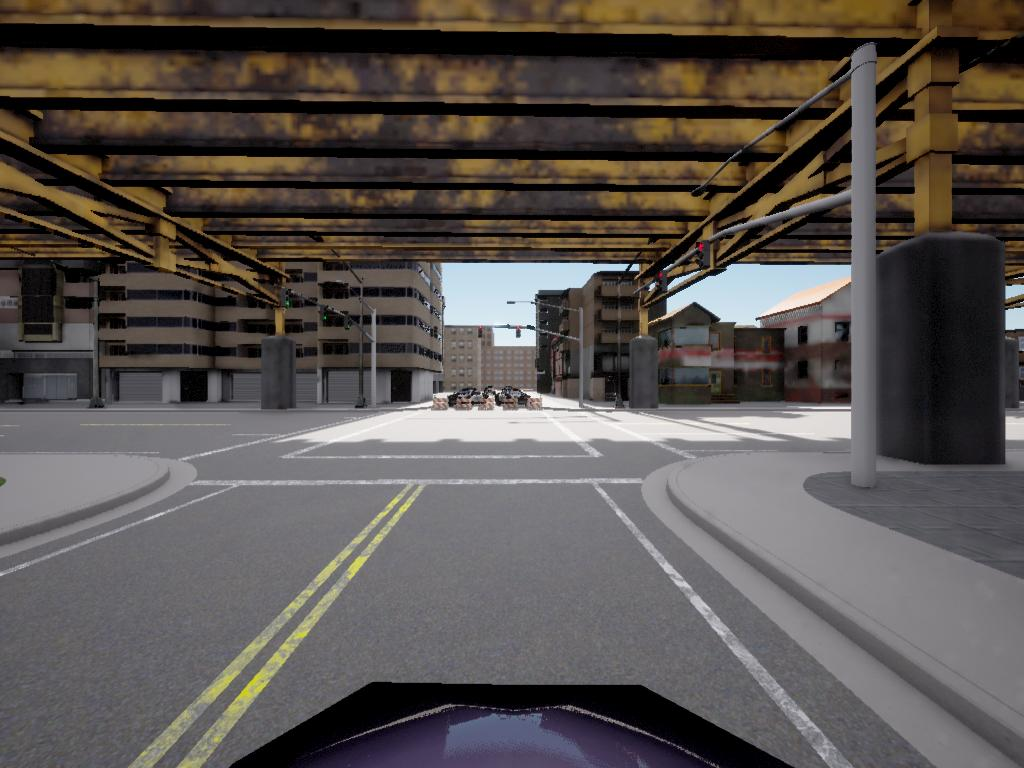traffic_light: (695, 241, 710, 271), (281, 288, 292, 310), (318, 305, 330, 325), (658, 272, 668, 295), (343, 313, 352, 333), (516, 327, 522, 341), (479, 327, 484, 339)
